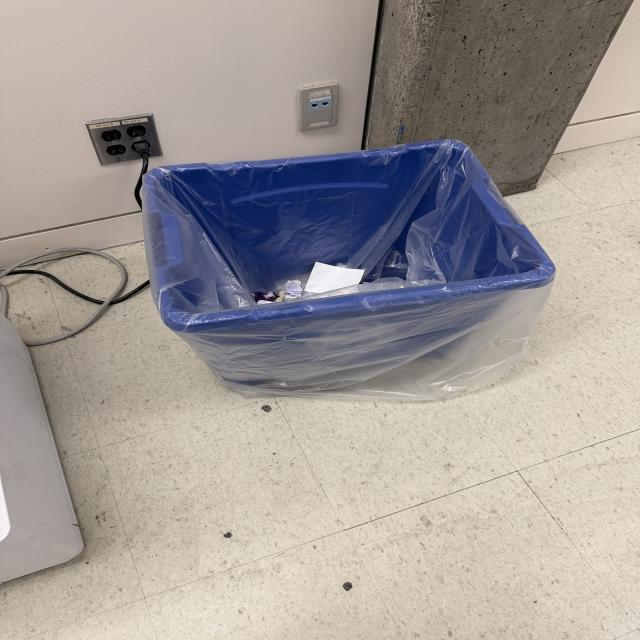Dustbin: (139, 138, 559, 394)
